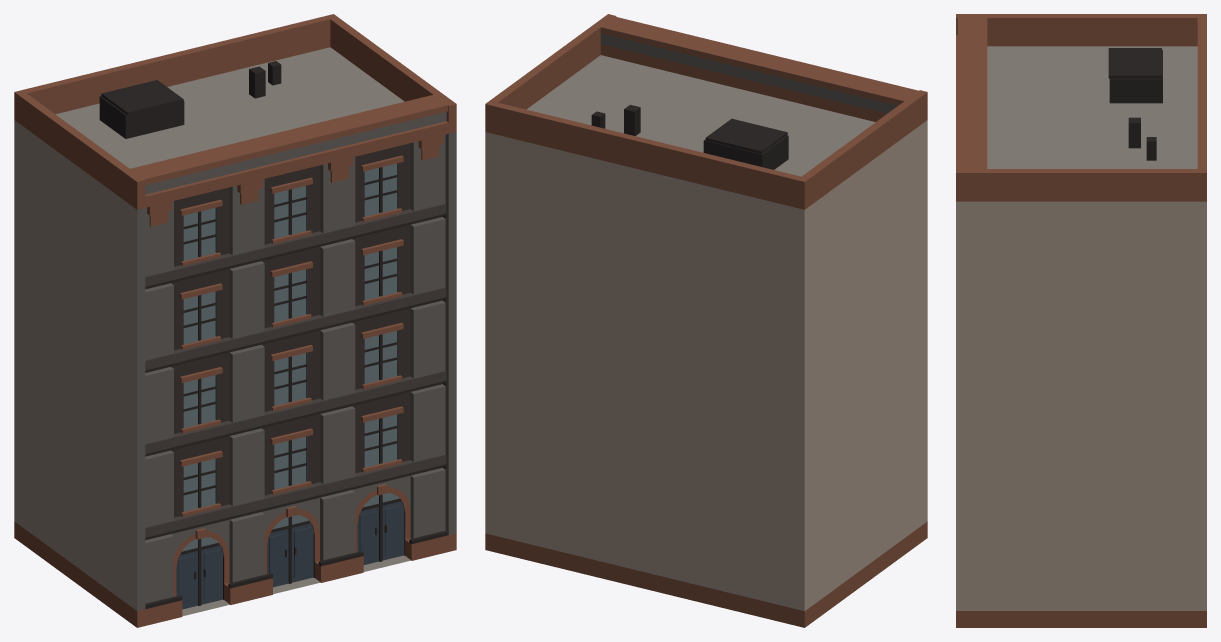
File: cast-iron-loft-d05908.glb
The picture shows the model from 3 angles, left to right: view 1: azimuth 30°, elevation 25°; view 2: azimuth 150°, elevation 25°; view 3: azimuth 270°, elevation 25°; orthographic projection. The views are drawn at different scales.
Visible parts, largest first — view 1: loft-shell, bulkhead-lid, door-r, door-l; view 2: loft-shell, bulkhead-lid; view 3: loft-shell, bulkhead-lid.
Part boxes in pixels (x1=…): loft-shell: x1=14, y1=14, x2=456, y2=627; bulkhead-lid: x1=101, y1=80, x2=183, y2=115; door-r: x1=292, y1=515, x2=313, y2=582; door-l: x1=267, y1=517, x2=288, y2=587; loft-shell: x1=485, y1=14, x2=927, y2=627; bulkhead-lid: x1=705, y1=118, x2=787, y2=153; loft-shell: x1=956, y1=14, x2=1206, y2=627; bulkhead-lid: x1=1108, y1=48, x2=1161, y2=78.
Size of the model in its own units: 12 by 16 by 8.
